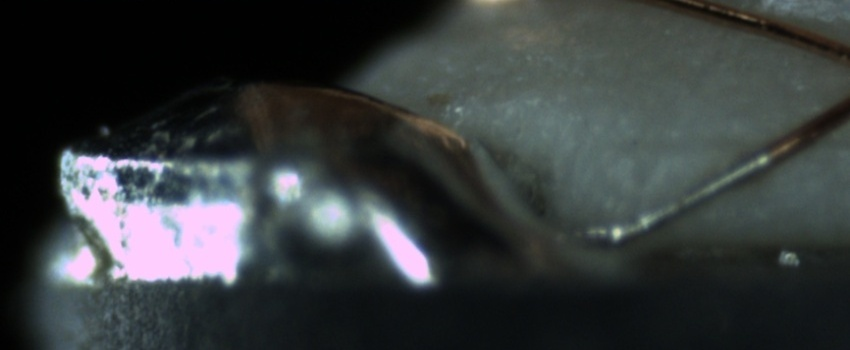DL: (623, 110, 849, 174)
TS: (570, 152, 773, 245)
TTCW: (586, 120, 827, 238)
